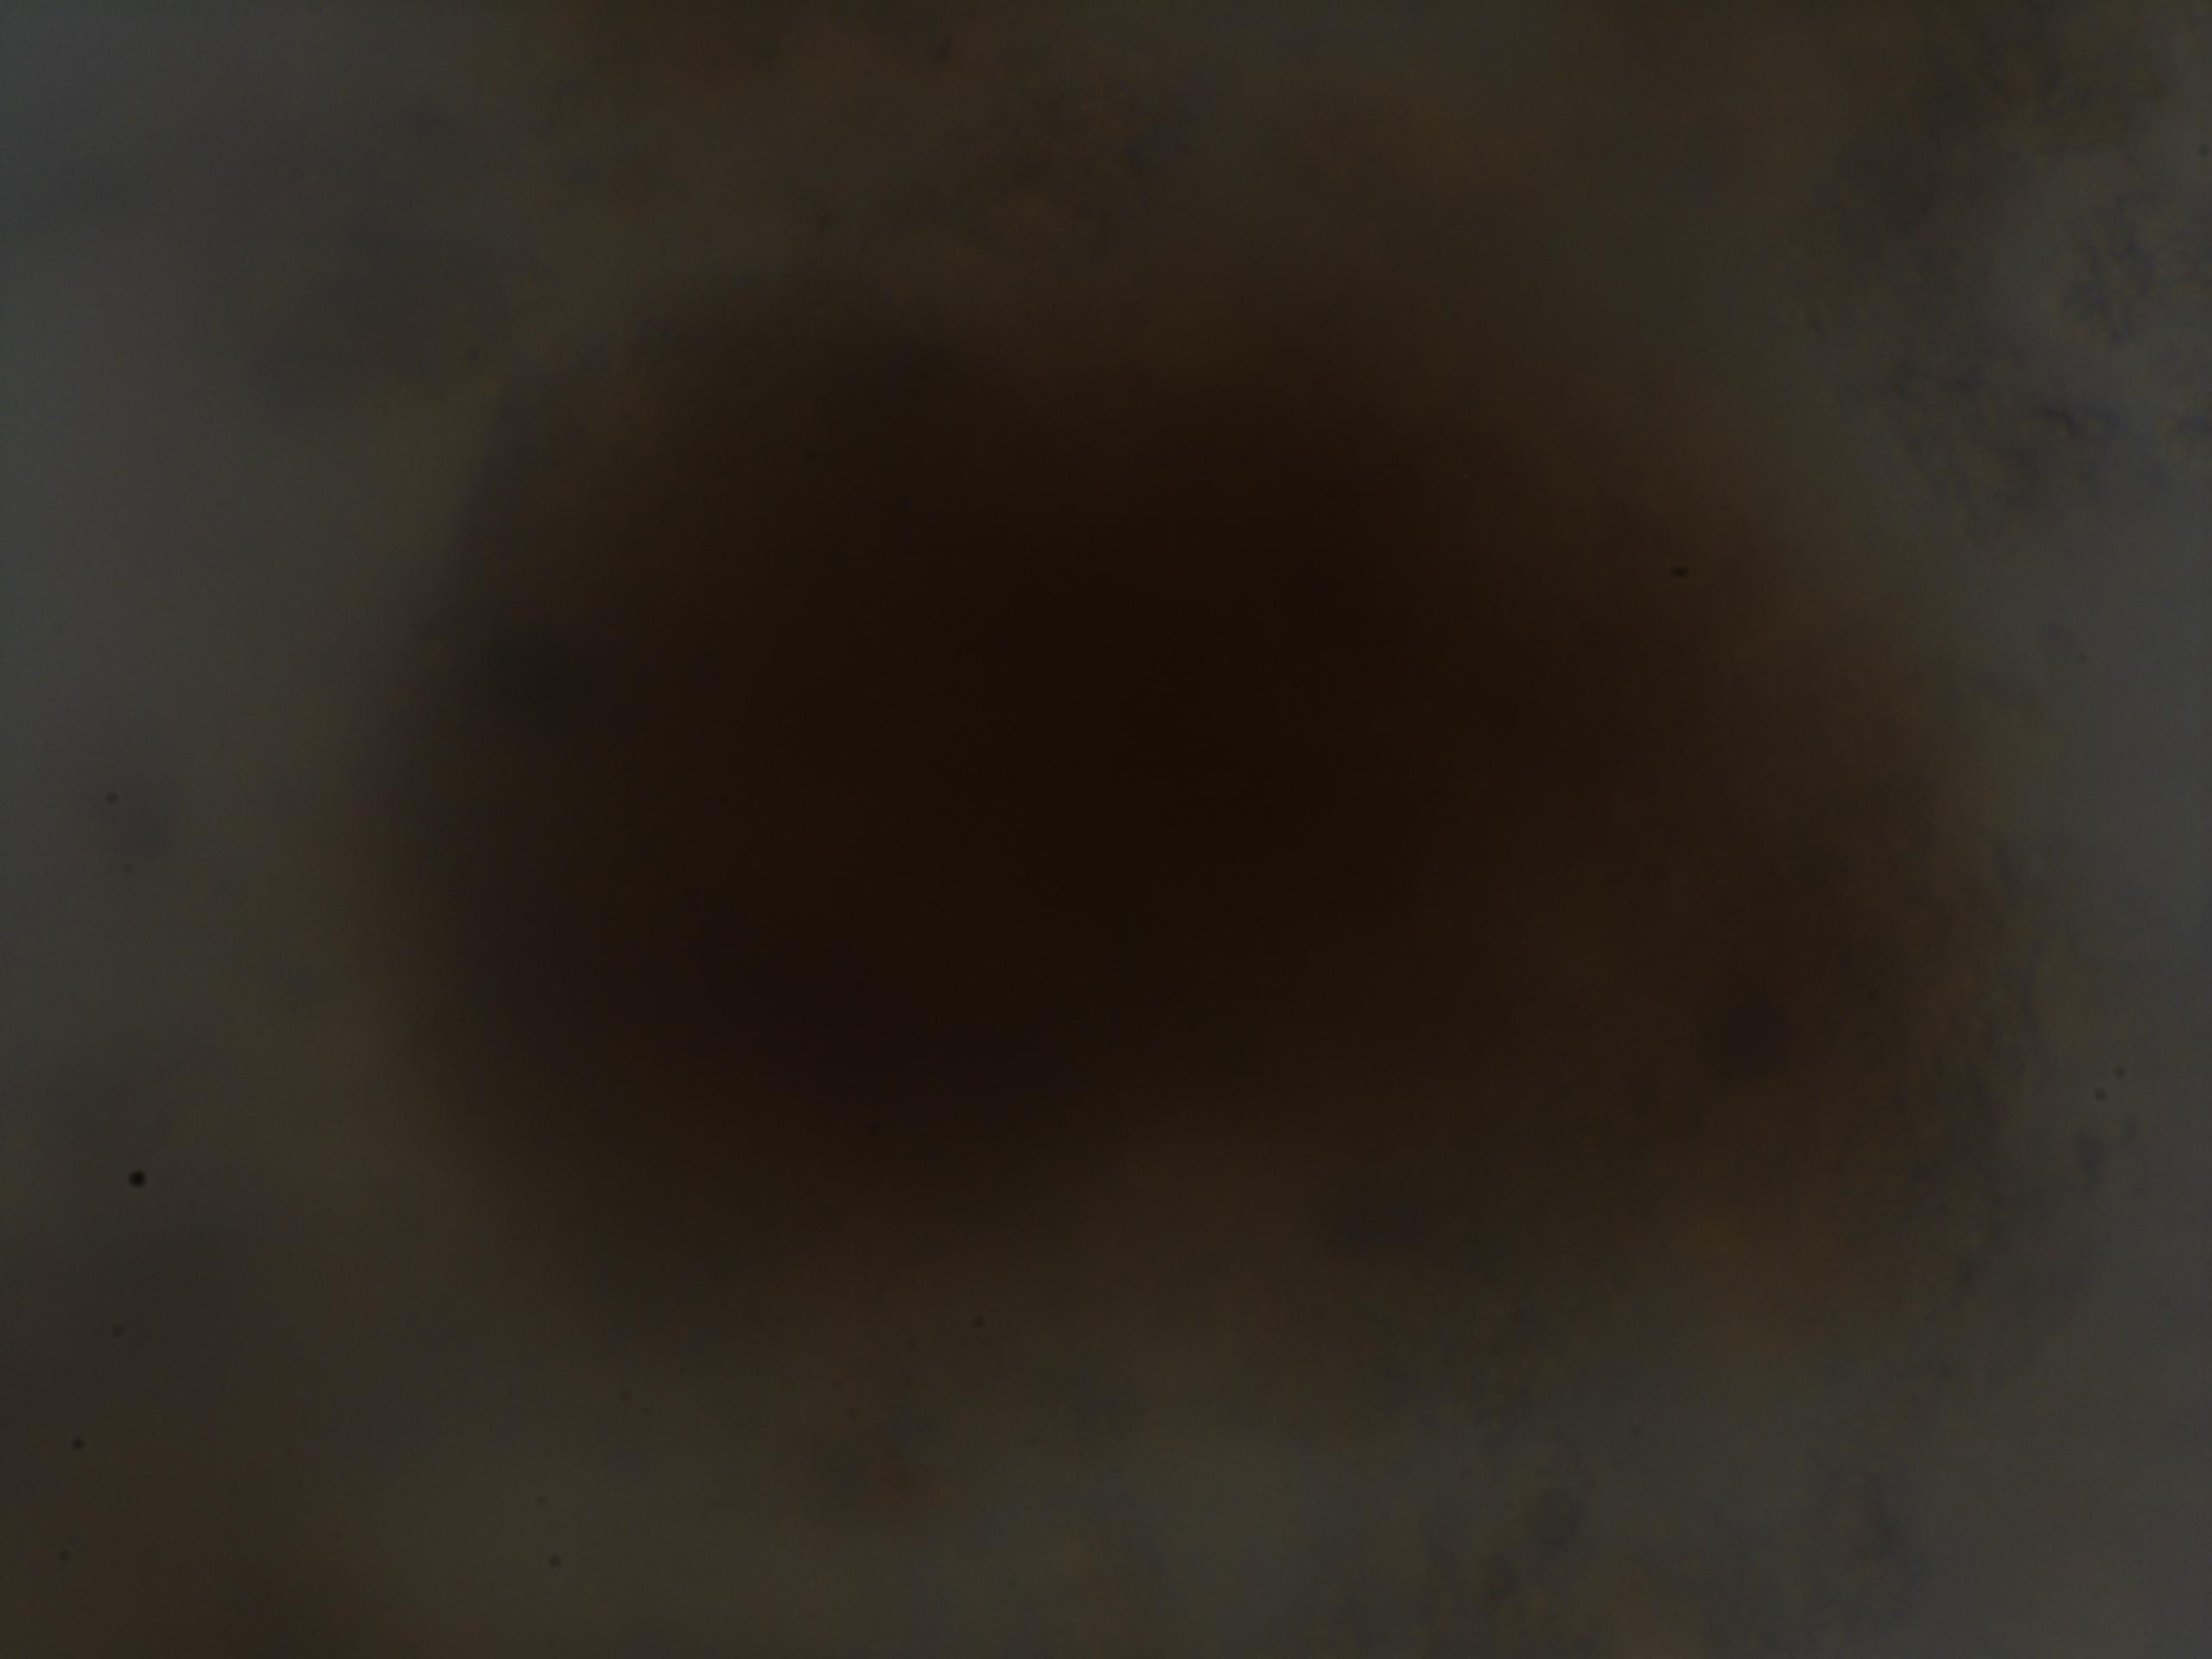spherical_floc: (366, 277, 1984, 1358)
